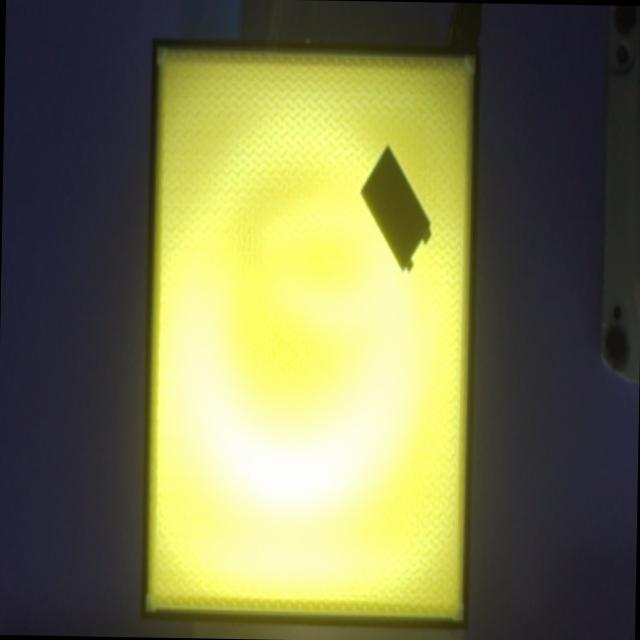bateria: (359, 143, 431, 273)
mesa: (140, 38, 479, 629)
